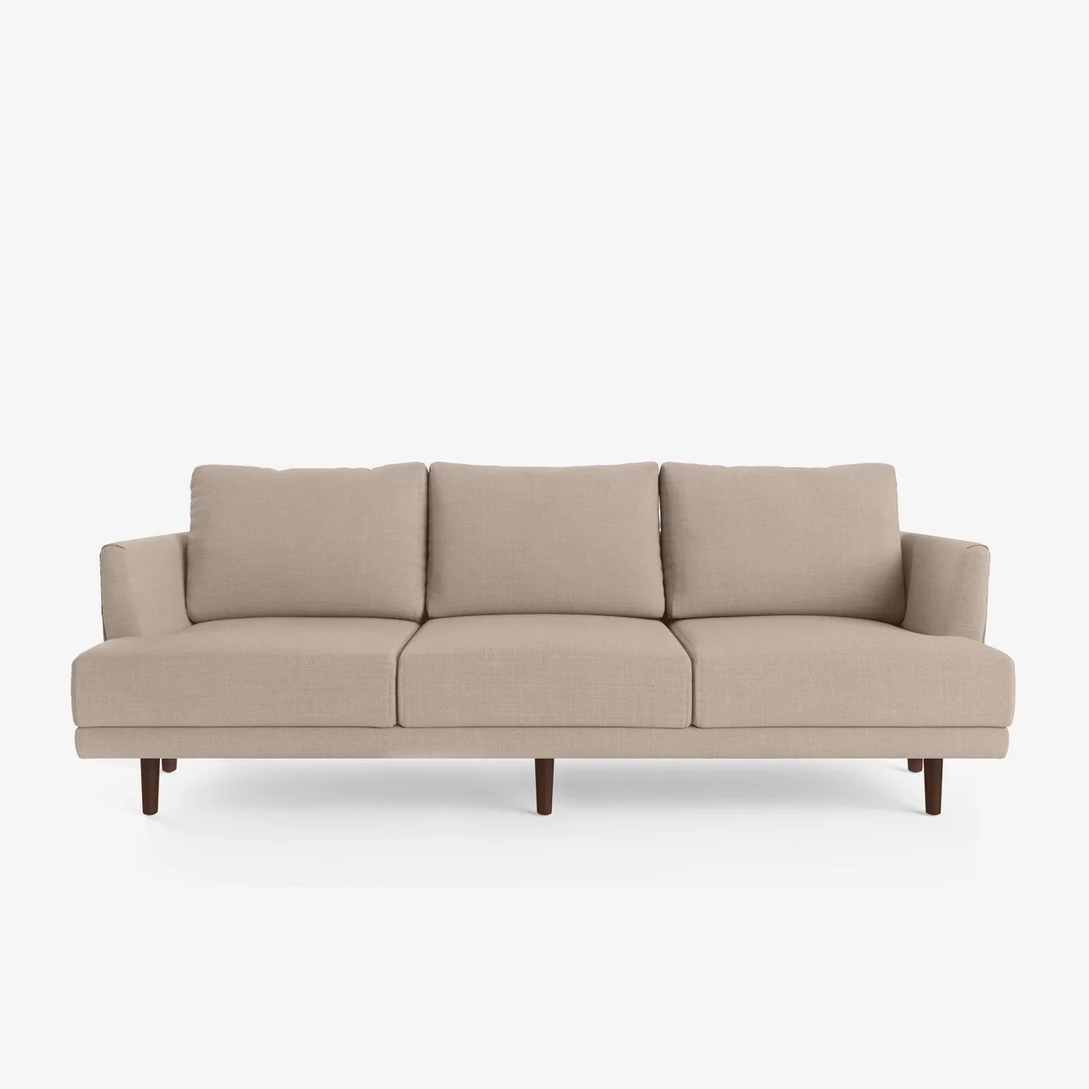3seatersofa: (71, 462, 1014, 815)
backrest: (186, 462, 904, 621)
base: (77, 727, 1008, 759)
leftarmrest: (903, 533, 989, 641)
leg: (923, 759, 943, 815), (140, 760, 159, 814), (536, 759, 554, 814), (162, 759, 176, 771), (908, 759, 922, 771)
rightarmrest: (100, 533, 189, 638)
seat: (73, 616, 1013, 727)
